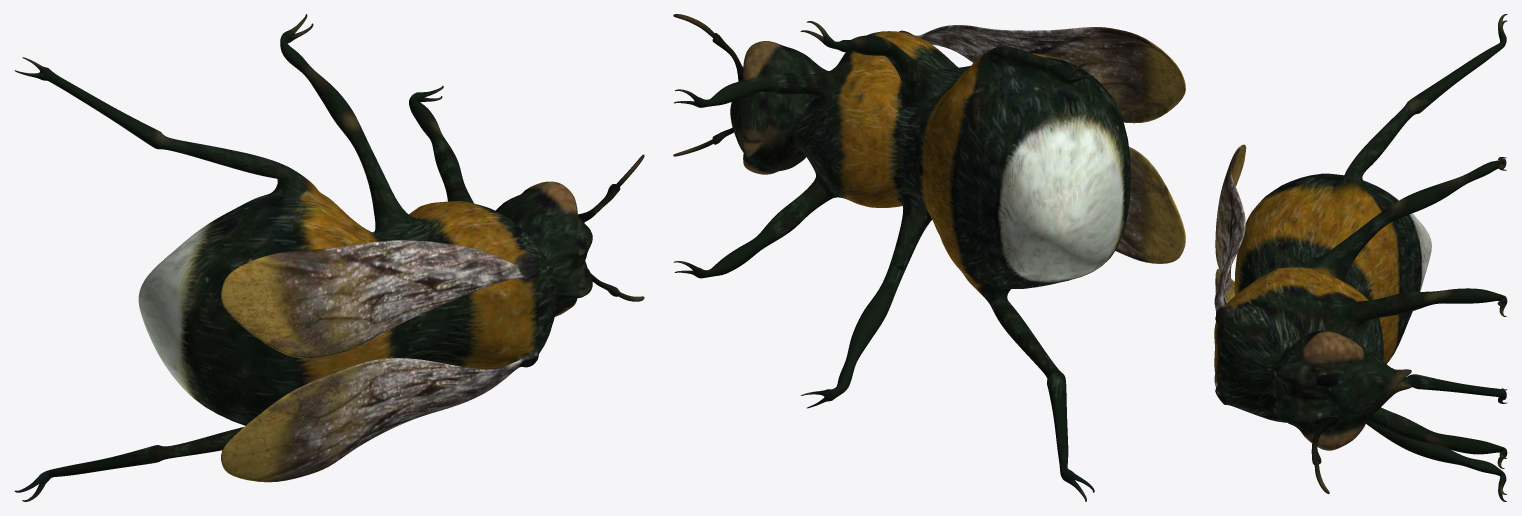
File: bee.obj
3 renders of one model, left to right at view 1: azimuth 30°, elevation 25°; view 2: azimuth 150°, elevation 25°; view 3: azimuth 270°, elevation 25°, orthographic. The views are drawn at different scales.
Visible parts, largest first — view 1: 10006_Bumblebee; view 2: 10006_Bumblebee; view 3: 10006_Bumblebee.
Boxes of the visible parts, x1,y1,x2,y2 form: 10006_Bumblebee: (14, 14, 644, 501); 10006_Bumblebee: (673, 14, 1185, 501); 10006_Bumblebee: (1214, 14, 1507, 501).
Size of the model in its own units: 4.24 by 3.4 by 2.32.
1 material, 1 textured.
